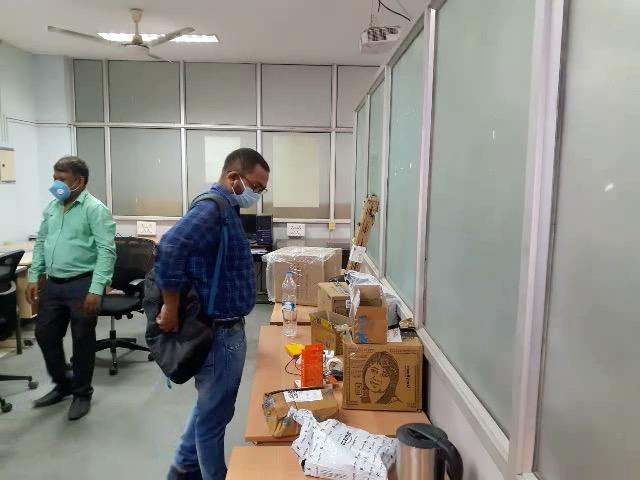shoplifting: (104, 218, 238, 465)
